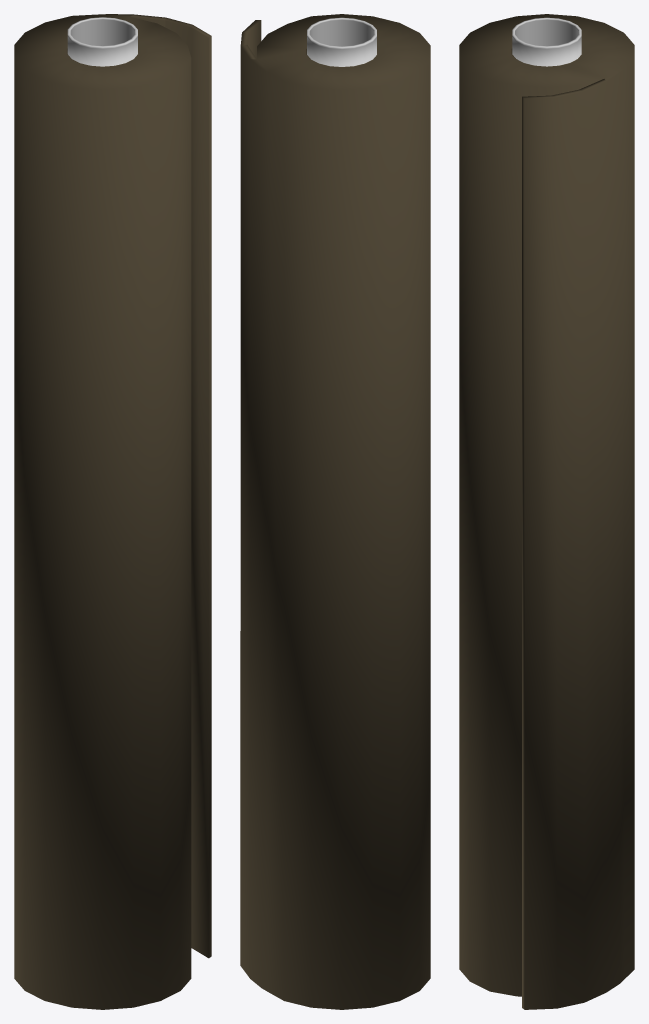
File: Fiber.fbx
3 views of the same model, side by side, from view 1: azimuth 30°, elevation 25°; view 2: azimuth 150°, elevation 25°; view 3: azimuth 270°, elevation 25° (orthographic).
Visible parts, largest first — view 1: g Object002, g Object002.001; view 2: g Object002, g Object002.001; view 3: g Object002, g Object002.001.
Part boxes in pixels (box(x1,y1,x2,y2)): g Object002: box(14, 14, 211, 1009); g Object002.001: box(67, 17, 137, 66); g Object002: box(240, 14, 430, 1009); g Object002.001: box(307, 17, 376, 66); g Object002: box(459, 14, 634, 1009); g Object002.001: box(512, 17, 581, 66).
Size of the model in its own units: 0.3833 by 2 by 0.3349.
